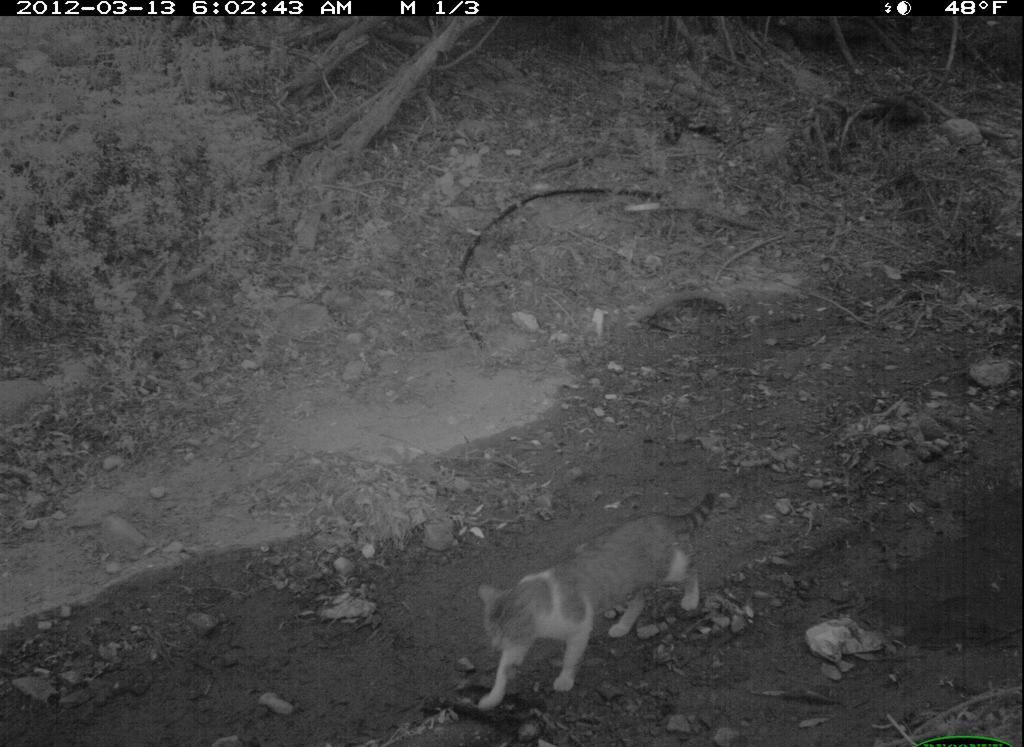cat: (468, 482, 733, 720)
